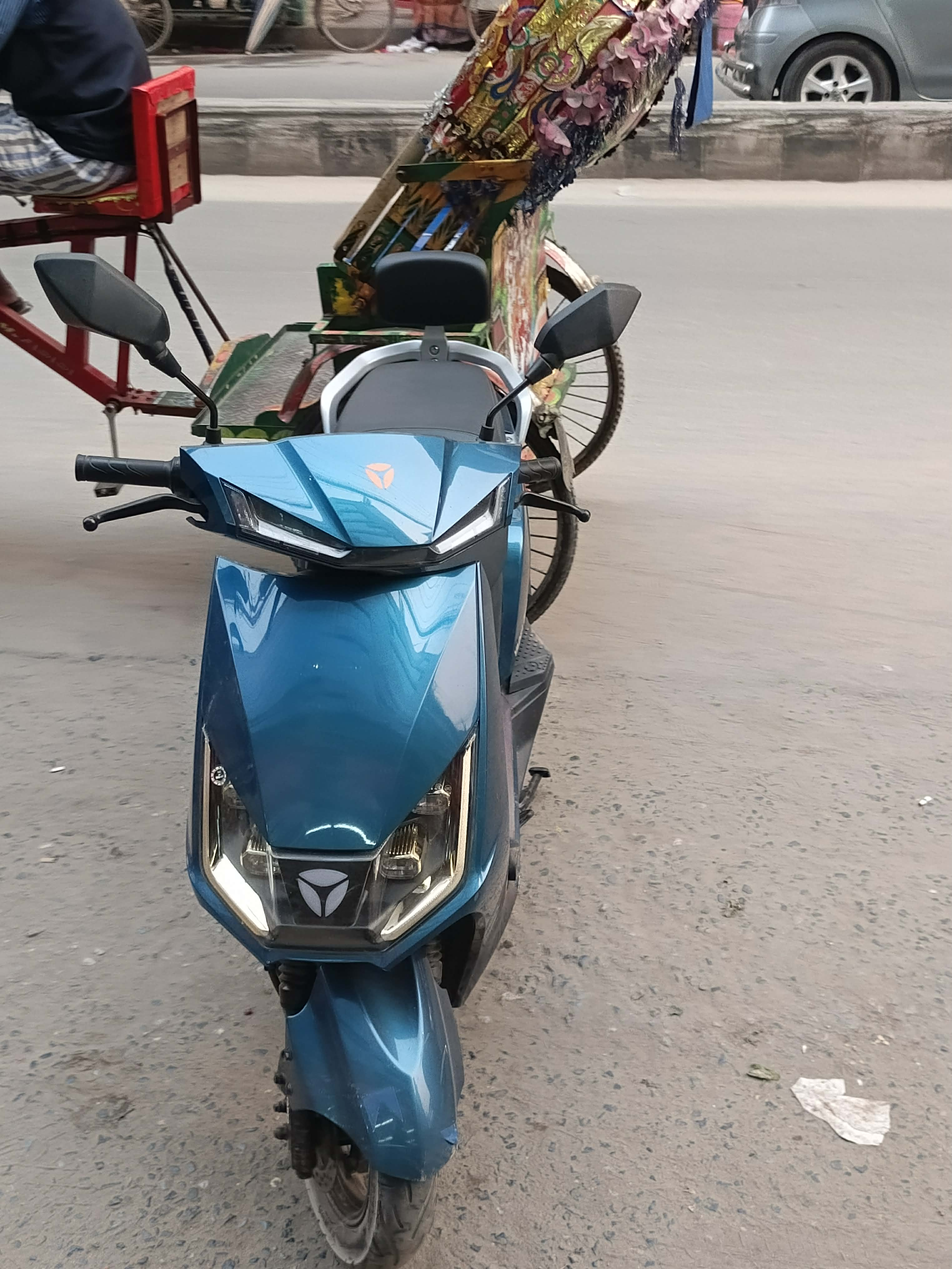Bikes: (31, 166, 717, 1269)
auto-ricksaw: (9, 0, 747, 448)
private car: (693, 0, 952, 216)
